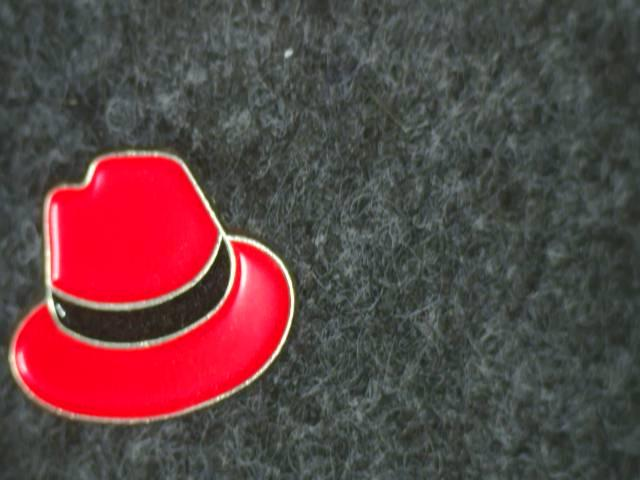Red-Hat: (5, 137, 320, 443)
